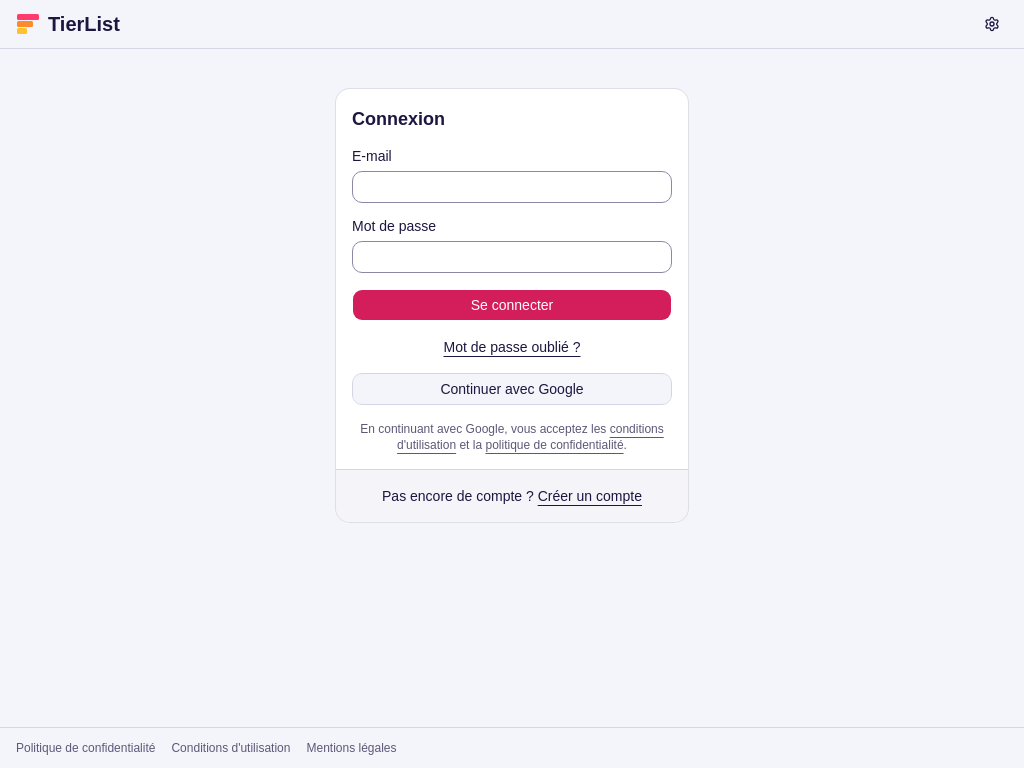
Test case: App › returns to the requested page, query string included, after signing in
Expected: the heading "Connexion" is shown, [352, 109, 445, 129]
In the field labelled "E-mail": (512, 187) [352, 171, 672, 203], type "alice@example.com"
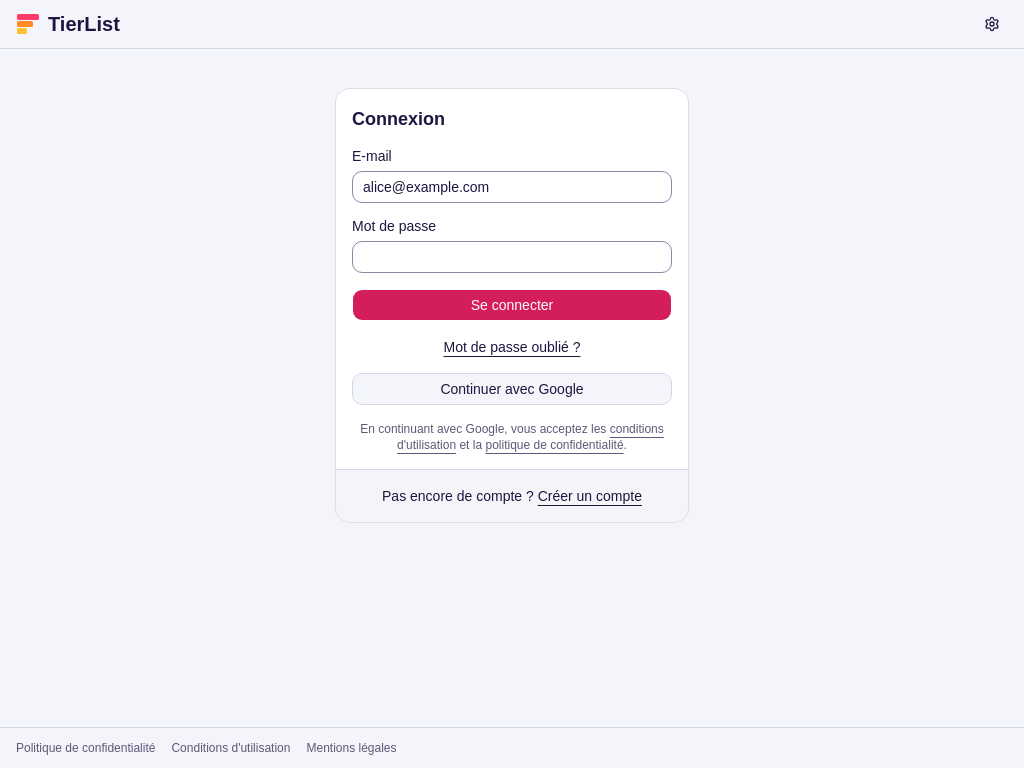
In the password field labelled "Mot de passe": (512, 257) [352, 241, 672, 273], type "secret"
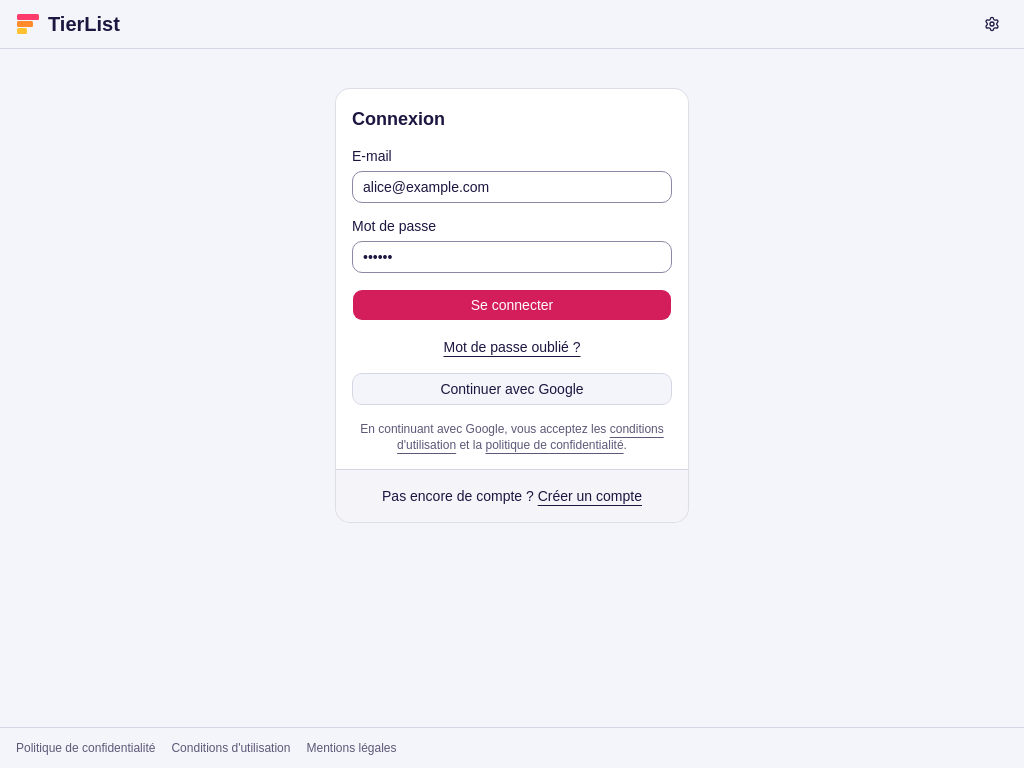
Click the button "Se connecter": (512, 305) [352, 289, 672, 321]
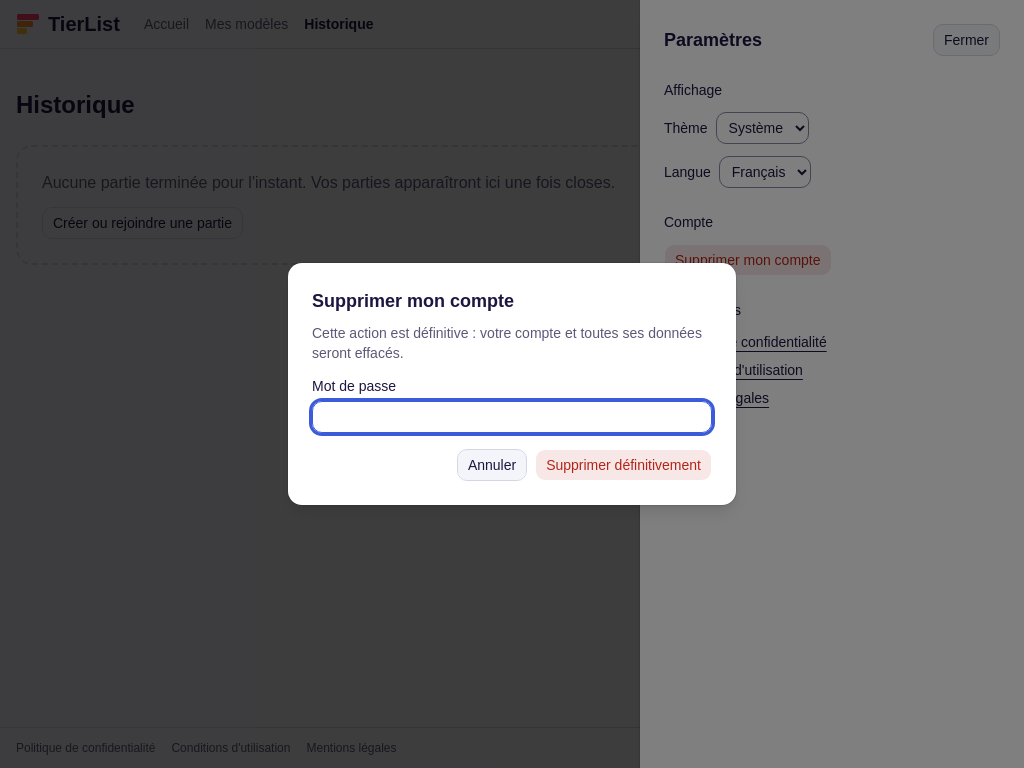
Result: the dialog "Supprimer mon compte" is shown at [288, 263, 736, 505]
